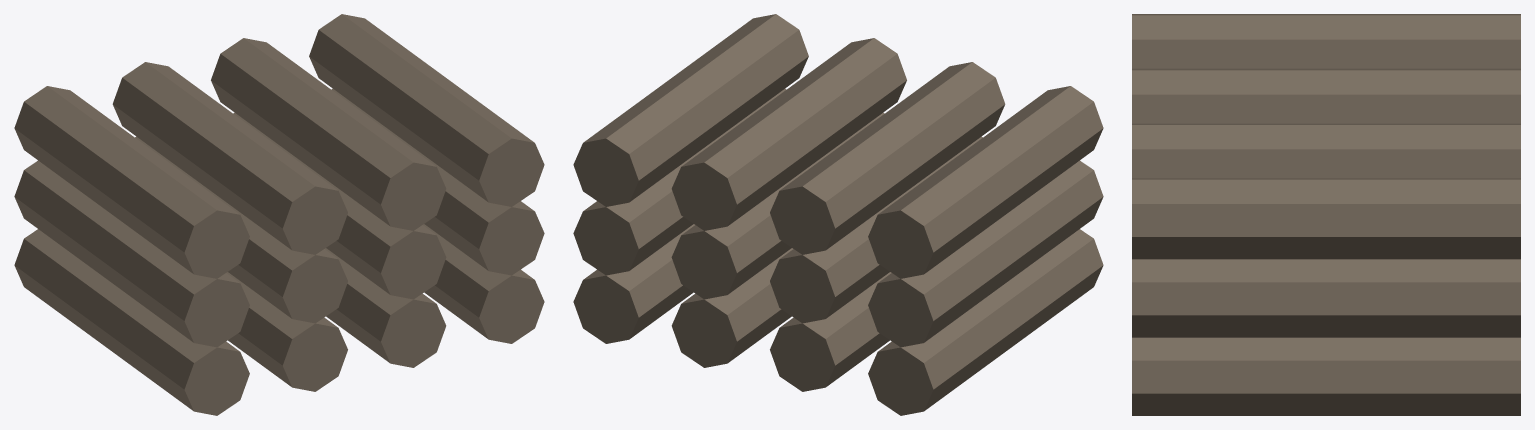
Rendered from firewood.glb.
3 views of the same model, side by side, from view 1: azimuth 30°, elevation 25°; view 2: azimuth 150°, elevation 25°; view 3: azimuth 270°, elevation 25° (orthographic). The views are drawn at different scales.
Parts seen in each view (by area): view 1: log; view 2: log; view 3: log.
Part boxes in pixels (x1,y1,x2,y2): log: [14, 14, 544, 415]; log: [573, 14, 1103, 415]; log: [1132, 14, 1520, 415].
Size of the model in its own units: 1.1 by 0.6 by 0.9.
